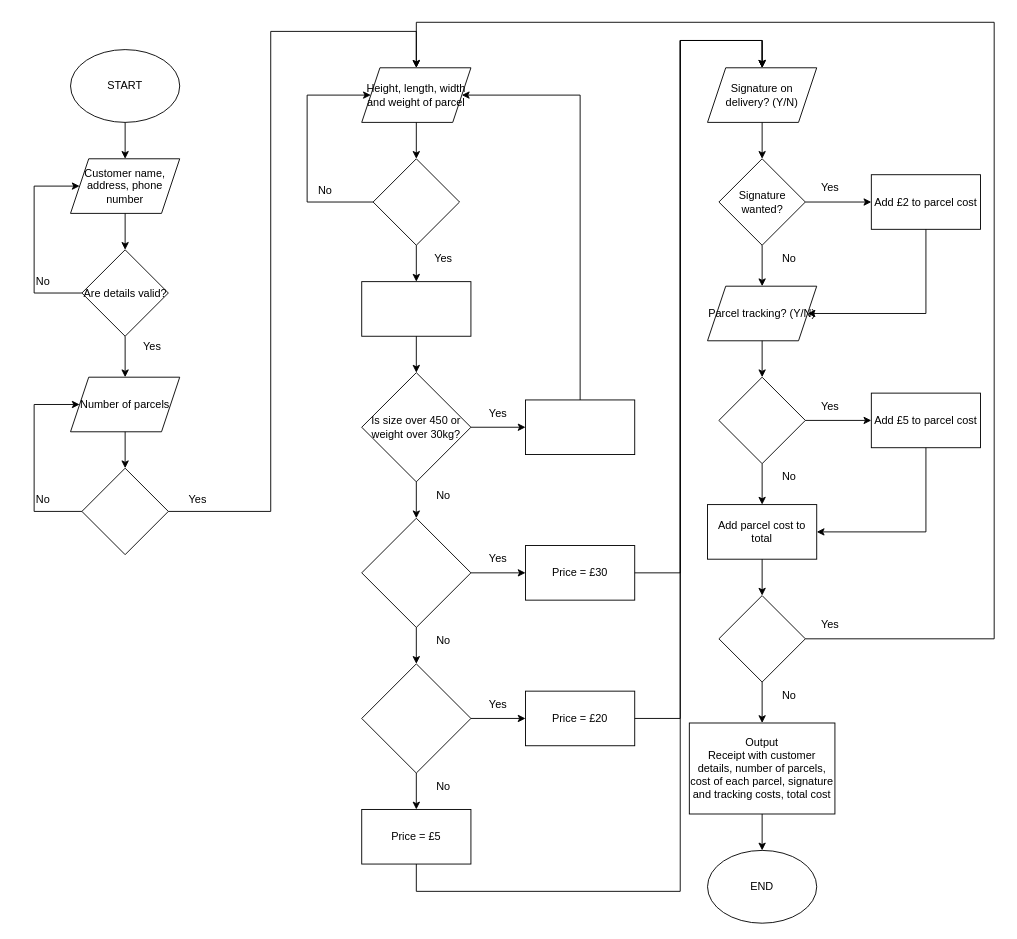
This 1017x939 diagram has some shape labels left out. The centre of each missing label's shape, as x and y in pixels:
Are measurements valid?: pixel 416 201
Is it between 1 and 6?: pixel 124 511
Is size 95 or over or weight over 2kg?: pixel 416 718
Is size over 150 or weight over 15kg?: pixel 416 572
More parcels to enter?: pixel 761 638
Output "Parcel can't be collected": pixel 580 427
Size = height + length + width: pixel 416 308
Tracking wanted?: pixel 761 420
